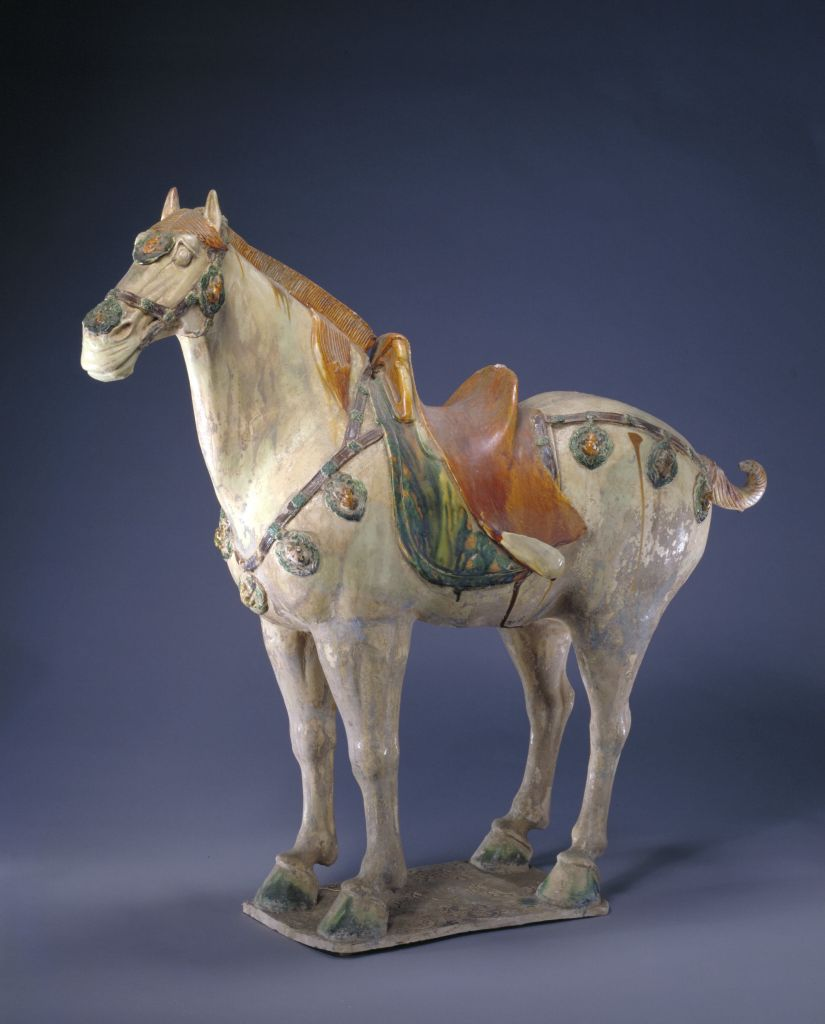background: (68, 185, 781, 934)
